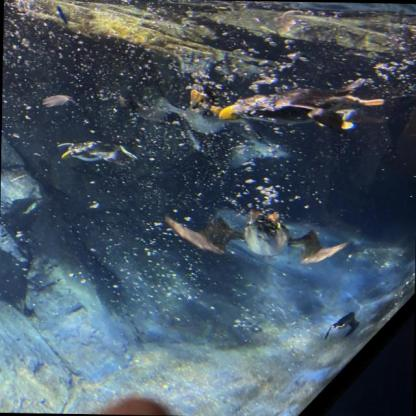puffin: (164, 206, 350, 266), (218, 74, 384, 132), (119, 85, 256, 135), (57, 138, 140, 164), (324, 311, 360, 340)
